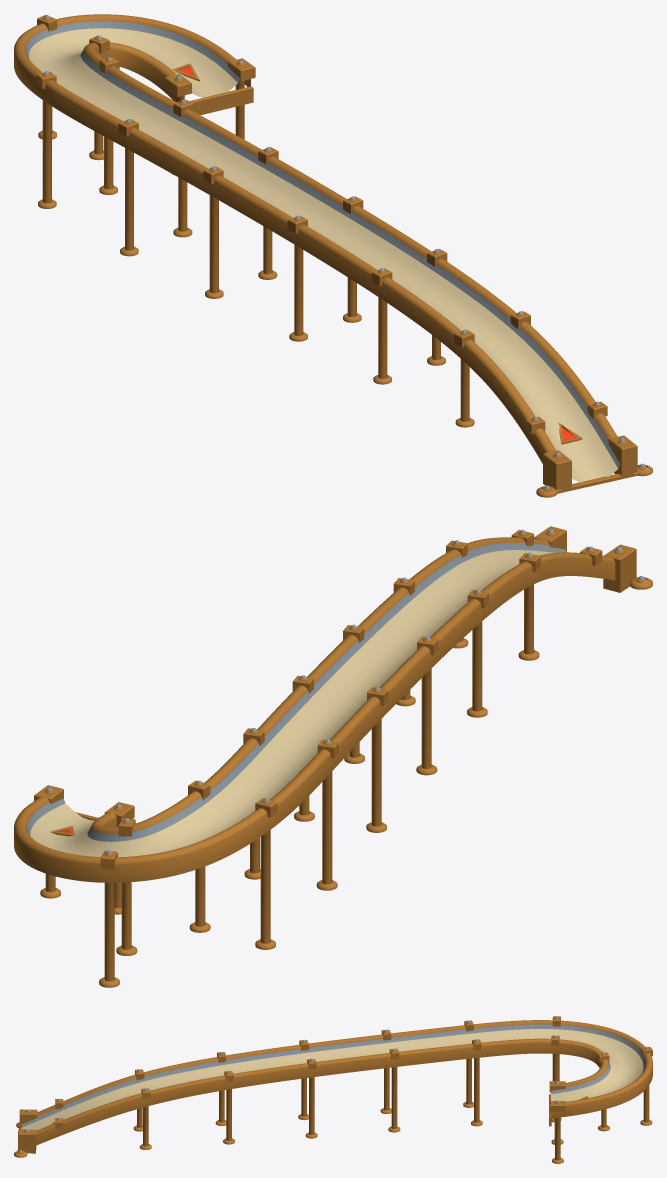
File: meridian-rampL.dae
3 views of the same model, one above another, from view 1: azimuth 30°, elevation 25°; view 2: azimuth 150°, elevation 25°; view 3: azimuth 270°, elevation 25° (orthographic). The views are drawn at different scales.
Parts seen in each view (by area): view 1: accent, ramp_floor, metal; view 2: accent, ramp_floor, metal; view 3: accent, ramp_floor, metal.
Boxes of the visible parts, <box> form: accent: <box>14,14,652,497</box>; ramp_floor: <box>29,28,617,482</box>; metal: <box>25,15,645,488</box>; accent: <box>14,526,652,987</box>; ramp_floor: <box>30,550,553,857</box>; metal: <box>27,529,644,854</box>; accent: <box>14,1016,652,1163</box>; ramp_floor: <box>21,1029,643,1130</box>; metal: <box>19,1016,648,1152</box>.
Bounding box in the file's own units: 0.3112 × 0.1903 × 1.28.
